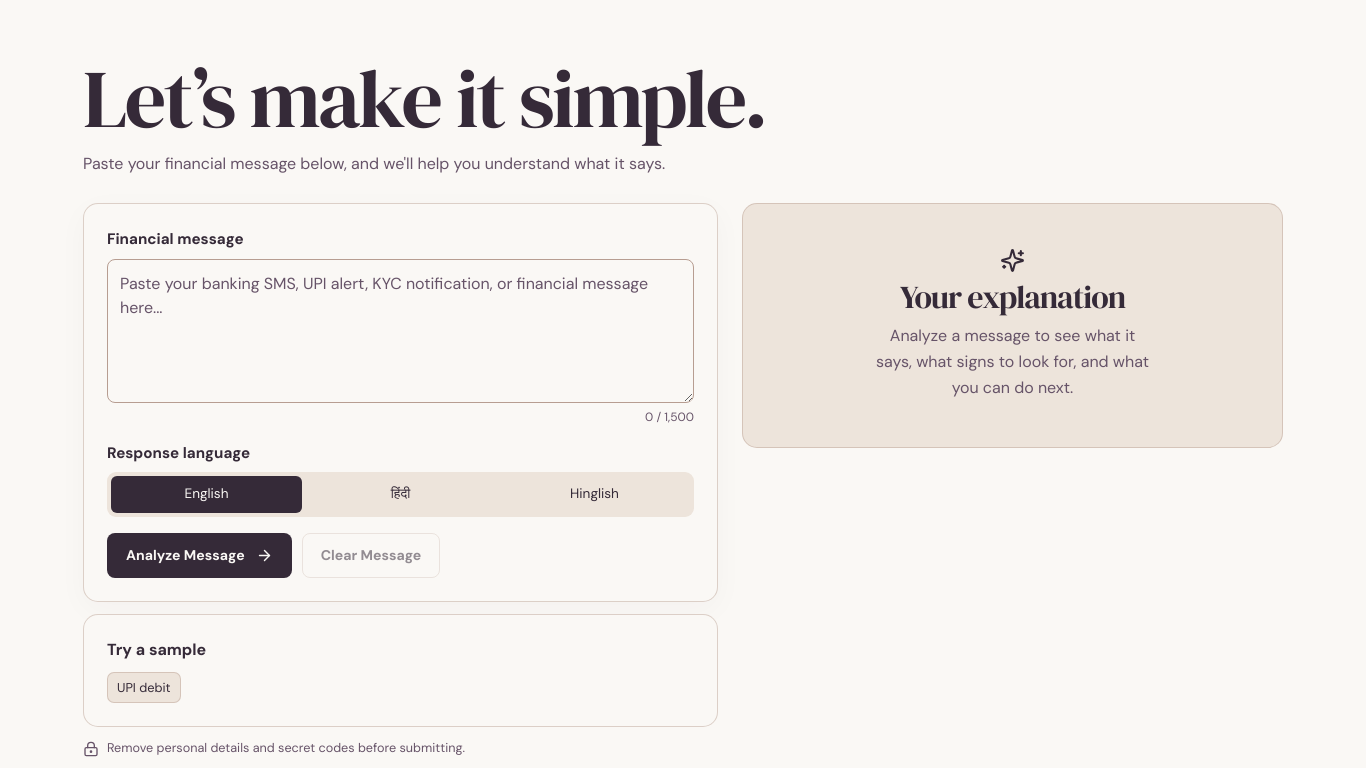
Scenario: inserts a sample, analyzes with the selected language and clears output
What coordinates should you click on to do the following:
click the button "UPI debit"
I would click on:
 (144, 687)
Its box is [107,672,181,703].
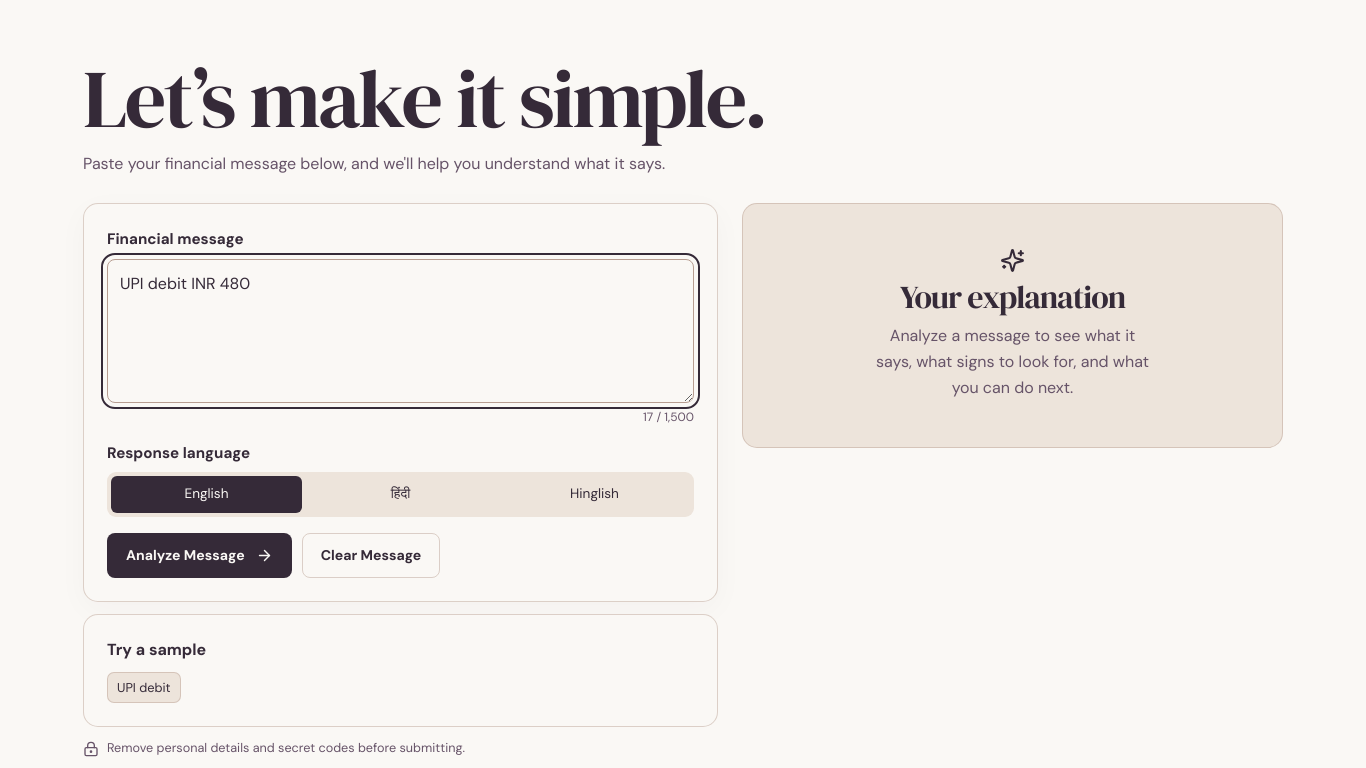
What coordinates should you click on to do the following:
click the radio button labelled "Hinglish"
I would click on:
 (594, 494)
Its box is [570,485,619,502].
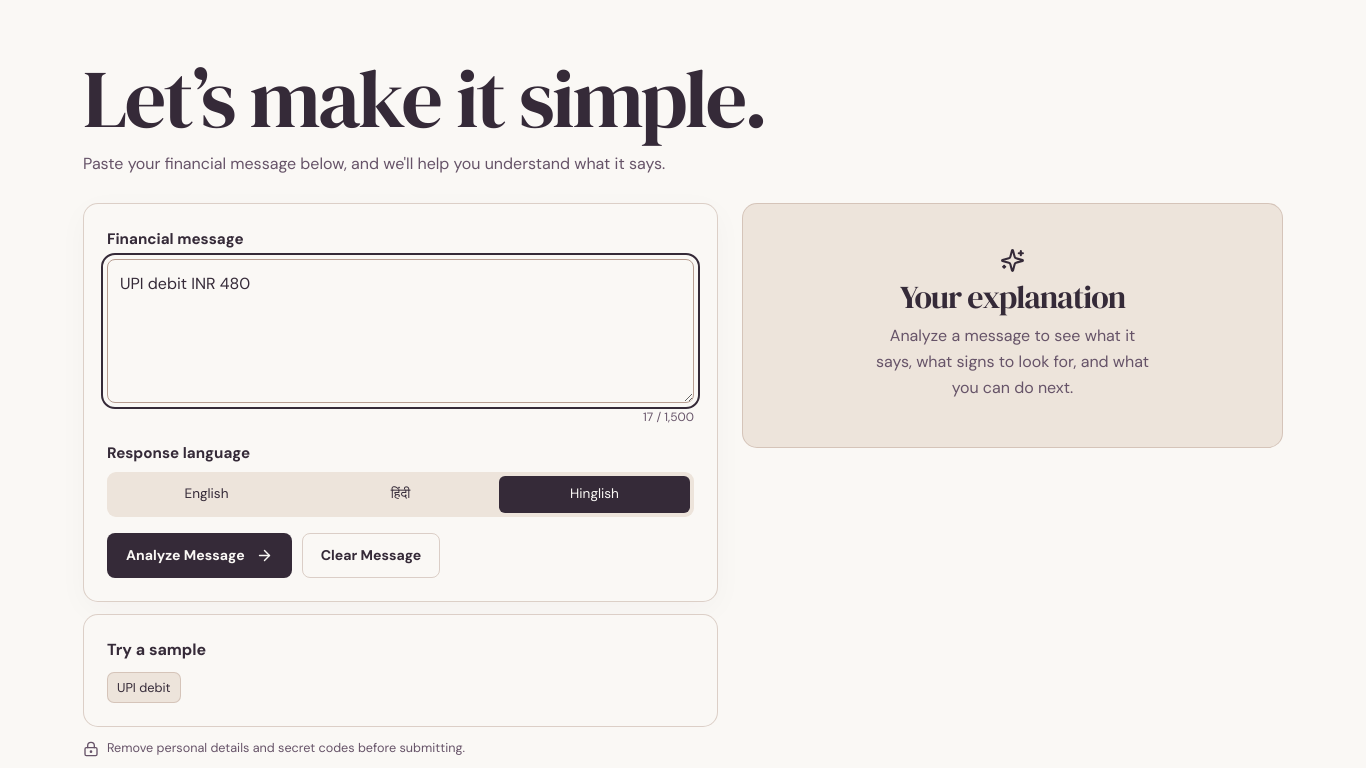
What coordinates should you click on to do the following:
click the button "Analyze Message"
I would click on:
 (199, 555)
Its box is [107,533,292,578].
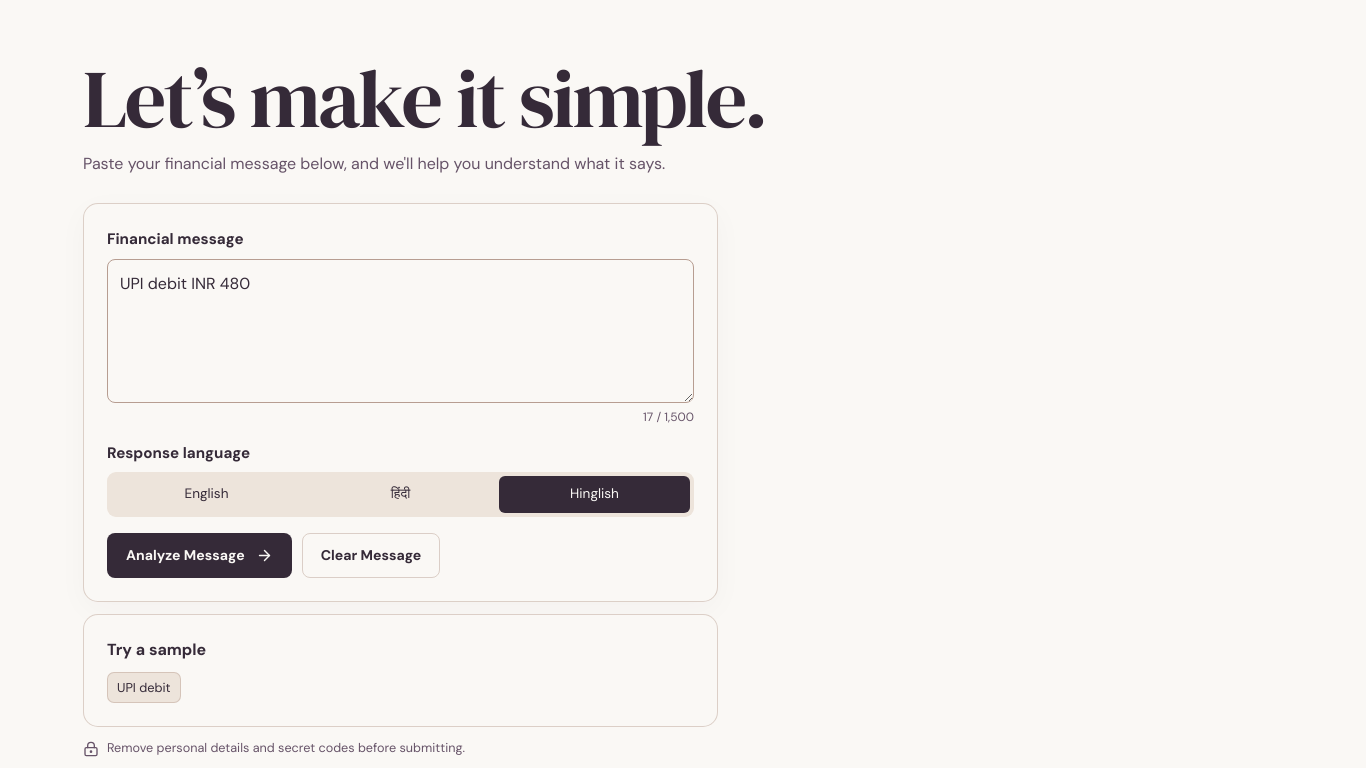
What coordinates should you click on to do the following:
click the button "Clear Message"
I would click on:
 (371, 555)
Its box is [302,533,440,578].
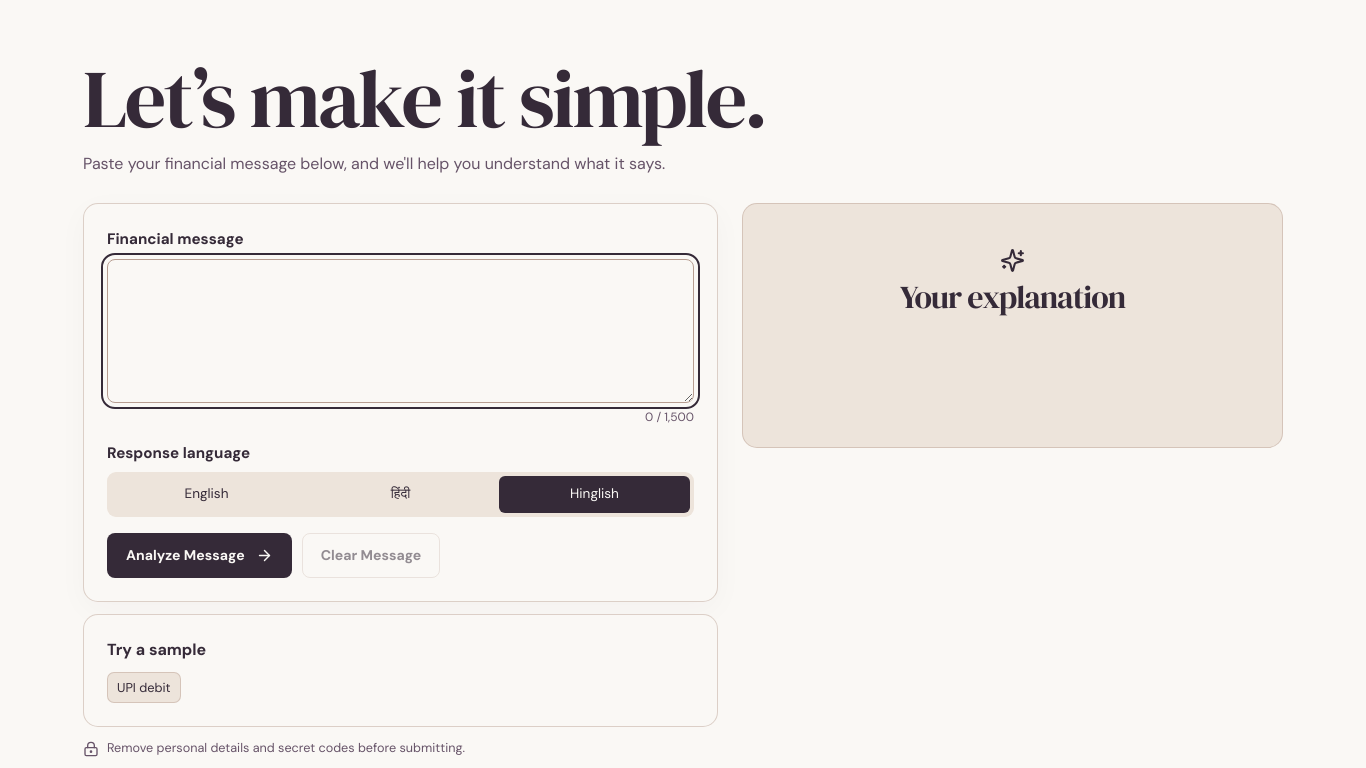
Expected: the text box labelled "Financial message" is empty, [107,259,694,403]
